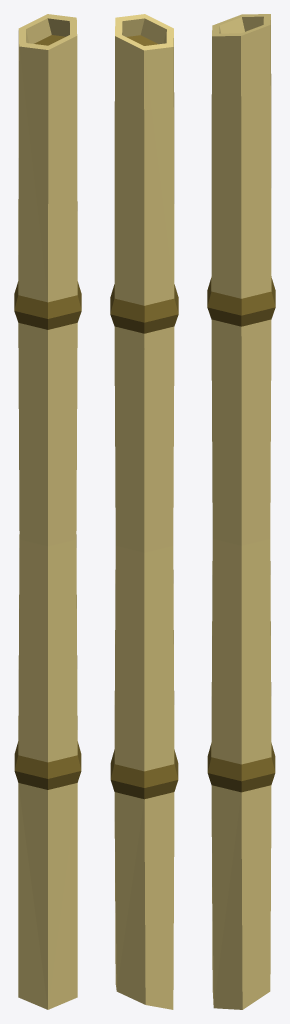
The model's file is Asian_Prop_Bamboo_Dried_Small_01.FBX.
3 renders of one model, left to right at view 1: azimuth 30°, elevation 25°; view 2: azimuth 150°, elevation 25°; view 3: azimuth 330°, elevation 25°, orthographic.
Visible parts, largest first — view 1: Asian_Prop_Bamboo_Dried_Small_01; view 2: Asian_Prop_Bamboo_Dried_Small_01; view 3: Asian_Prop_Bamboo_Dried_Small_01.
Part boxes in pixels (x1=…): Asian_Prop_Bamboo_Dried_Small_01: x1=14, y1=14, x2=81, y2=1009; Asian_Prop_Bamboo_Dried_Small_01: x1=110, y1=14, x2=178, y2=1009; Asian_Prop_Bamboo_Dried_Small_01: x1=207, y1=14, x2=275, y2=1009.
Bounding box in the file's own units: 82.08 × 1128 × 71.08.
